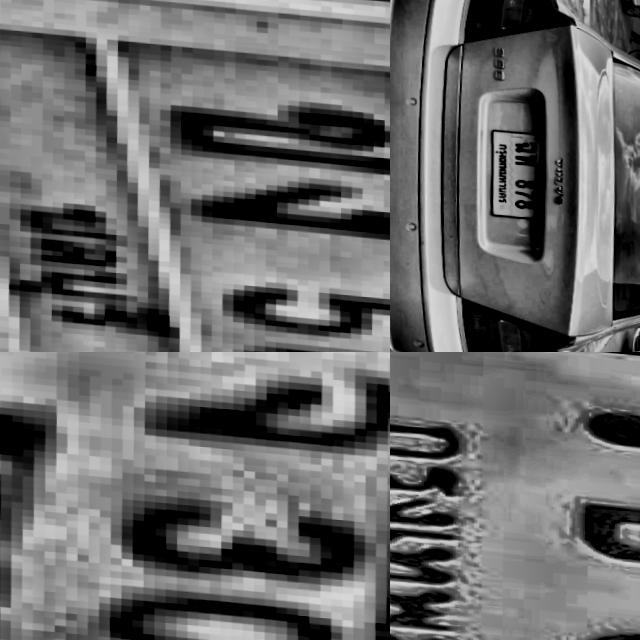license-plate: (0, 0, 390, 352), (0, 352, 390, 640), (390, 352, 640, 640), (481, 124, 549, 219), (637, 322, 640, 331)
